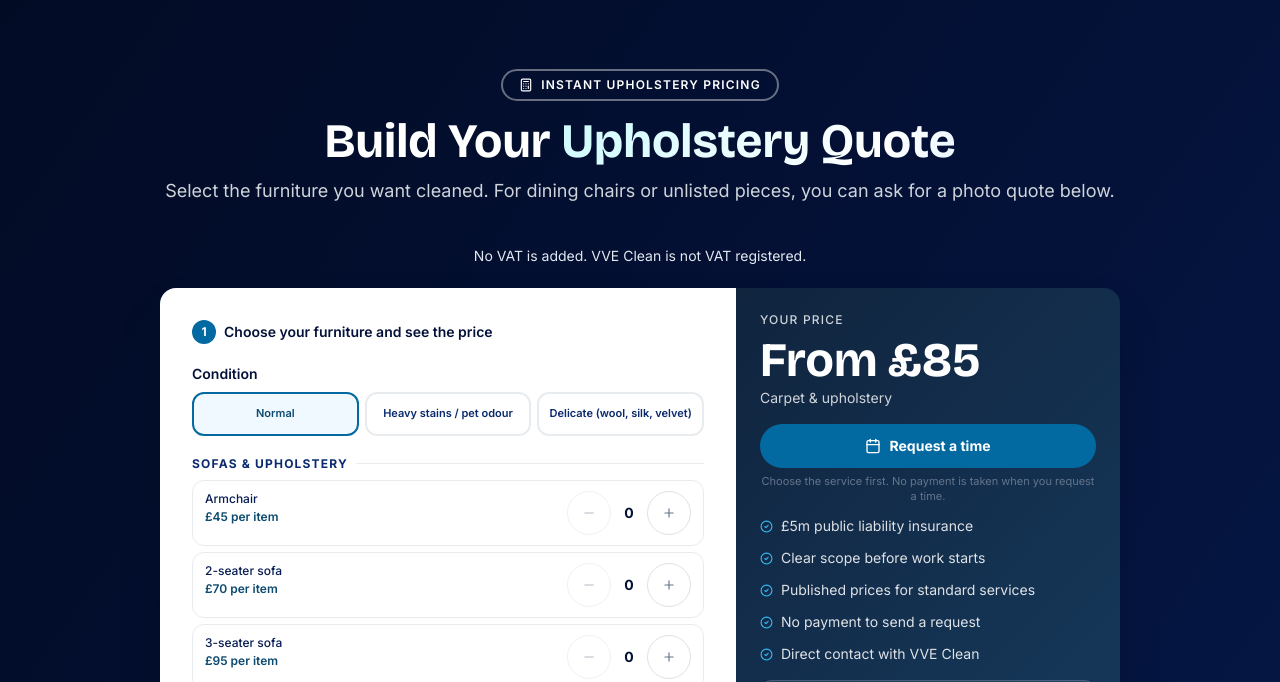
Test: Sofa page — optional carpet disclosure › prices a combined sofa + carpet basket from the central catalogue
What coordinates should you click on to do the following:
click the button named "Increase 3-seater sofa quantity"
I would click on:
 (669, 657)
Its box is [647,635,691,679].
(page scrolled)
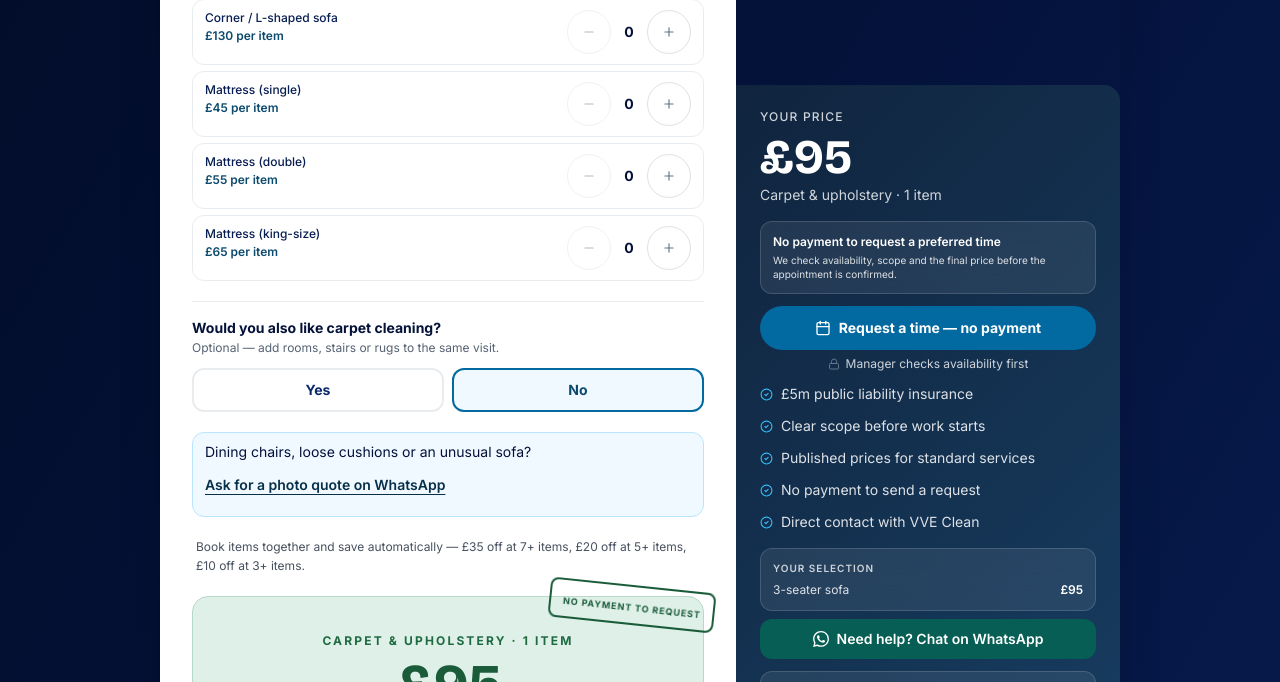
What coordinates should you click on to do the following:
click the button "Yes"
I would click on:
 (318, 390)
Its box is [192,368,444,412].
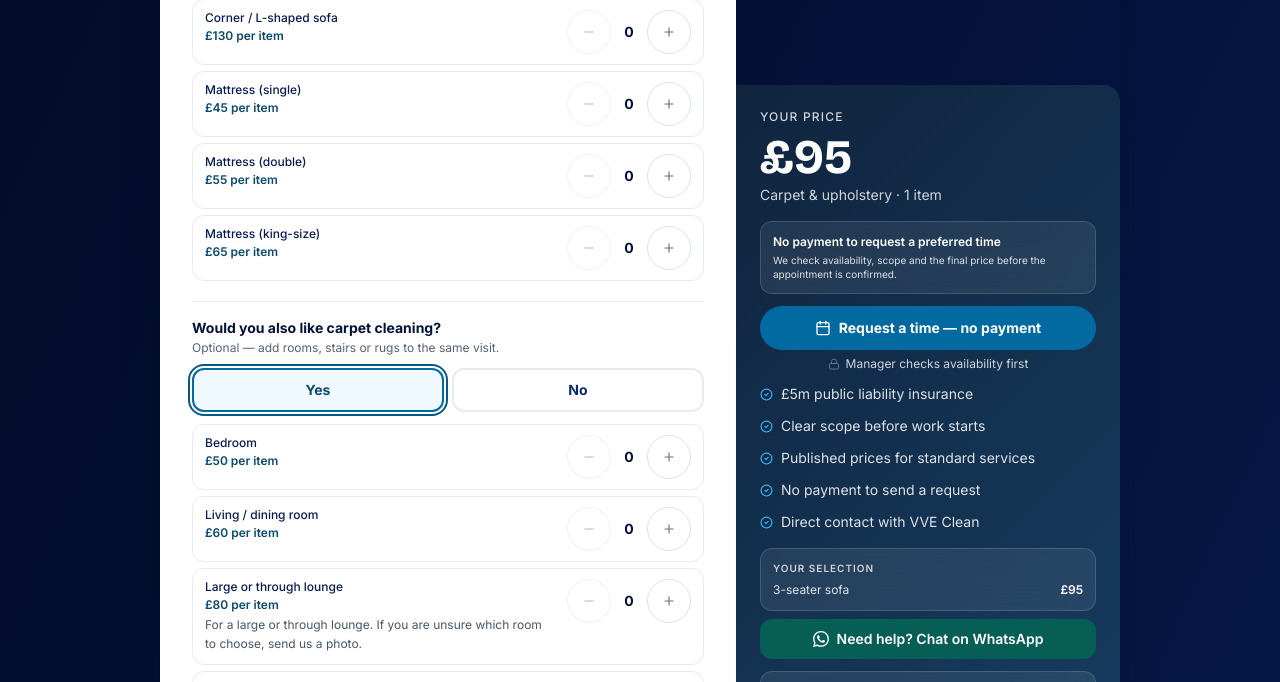
What coordinates should you click on to do the following:
click the button named "Increase Bedroom quantity"
I would click on:
 (669, 457)
Its box is [647,435,691,479].
(page scrolled)
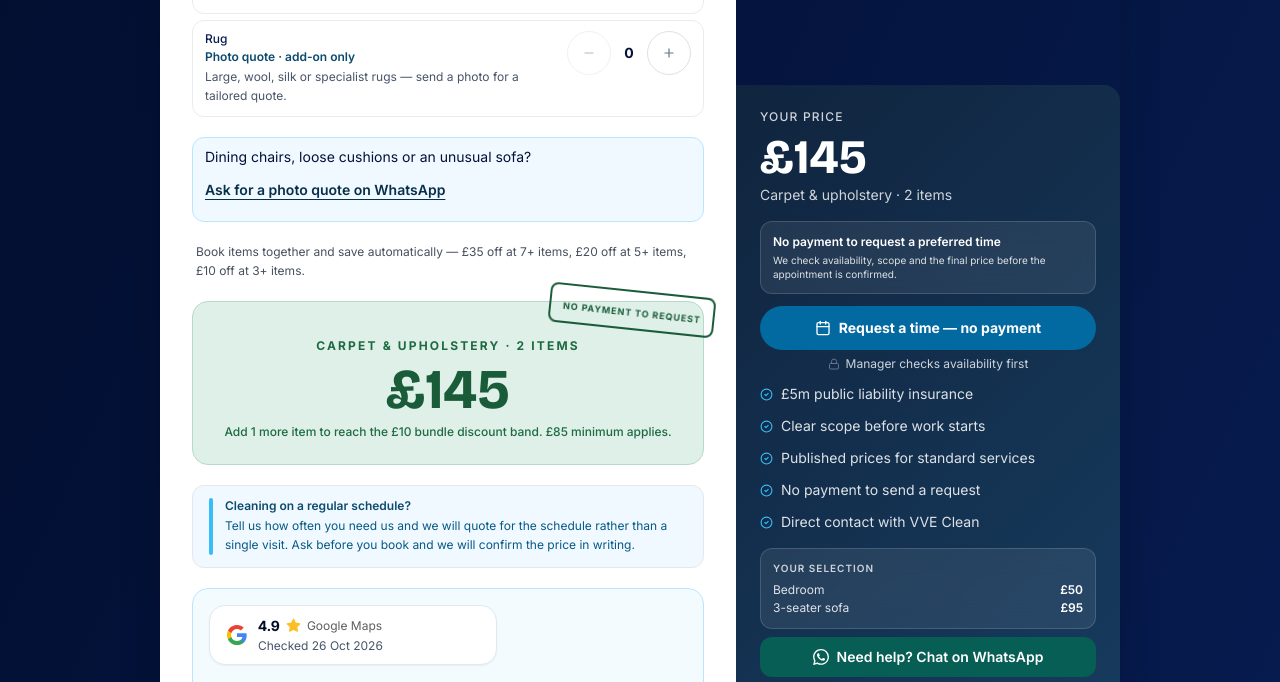
Expected: the text "£145" below "Ask for a photo quote on WhatsApp" is shown, [386,356,510,422]
